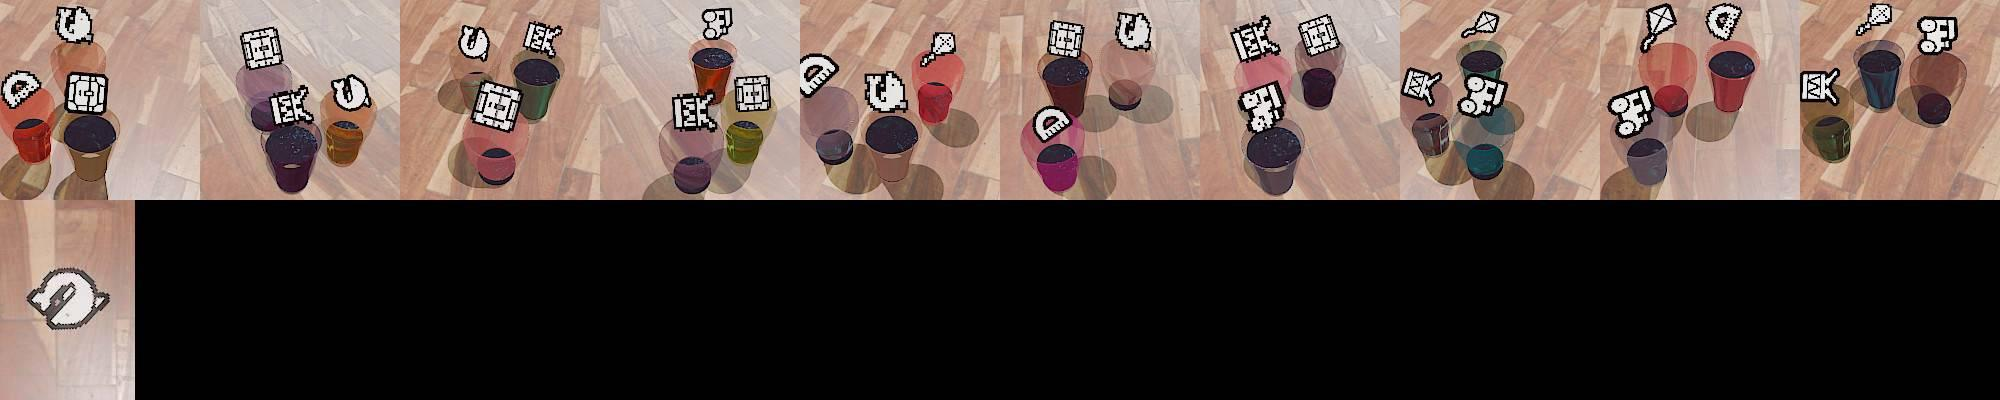icon: (20, 265, 114, 327), (468, 79, 523, 132), (1607, 84, 1657, 139), (1239, 82, 1287, 134), (1457, 74, 1510, 121), (1230, 15, 1278, 65), (864, 70, 909, 115), (240, 25, 284, 70), (269, 84, 315, 127), (671, 90, 718, 132), (798, 52, 841, 99), (1639, 4, 1679, 54), (65, 70, 108, 115), (1298, 14, 1341, 59), (0, 69, 45, 111), (1916, 17, 1959, 56), (1046, 18, 1085, 61), (1402, 66, 1443, 107), (330, 73, 372, 112), (522, 19, 564, 59), (55, 4, 94, 45), (1115, 10, 1153, 52), (1033, 104, 1073, 144), (733, 74, 772, 112), (1705, 3, 1742, 42), (1800, 68, 1841, 103), (457, 23, 490, 64), (1855, 4, 1895, 36), (922, 29, 958, 65), (1460, 10, 1500, 39), (700, 6, 732, 41)
